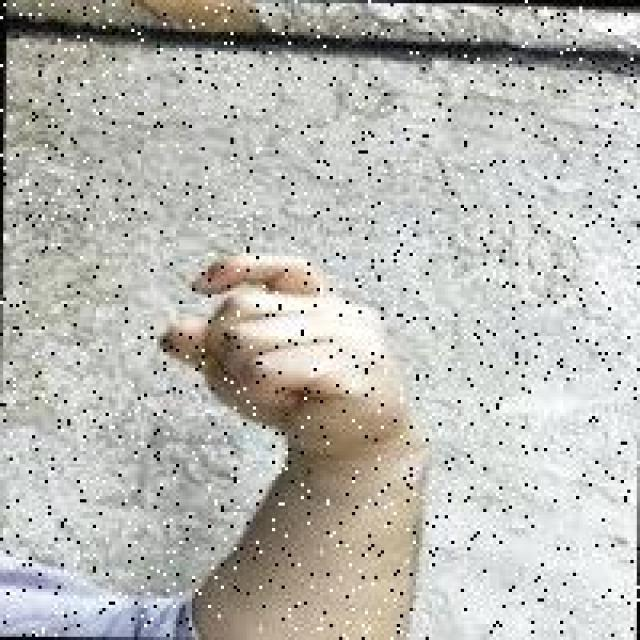X: (160, 253, 422, 464)
